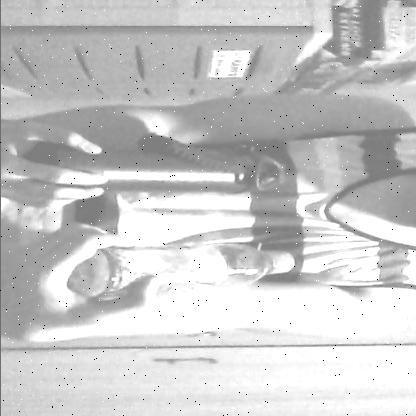Plastic Bottle: (59, 231, 309, 307)
